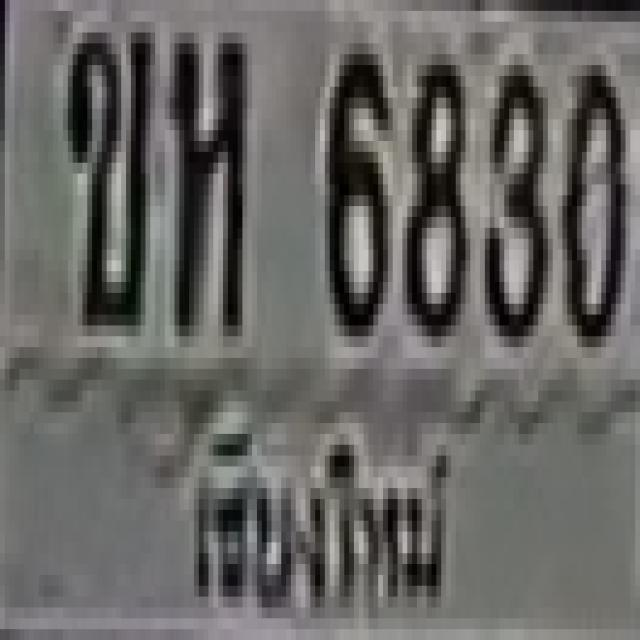0: (560, 58, 624, 340)
3: (484, 55, 548, 336)
6: (325, 33, 387, 335)
8: (402, 44, 467, 338)
A02: (63, 21, 149, 328)
A41: (165, 22, 249, 340)
CMI: (178, 402, 459, 628)
